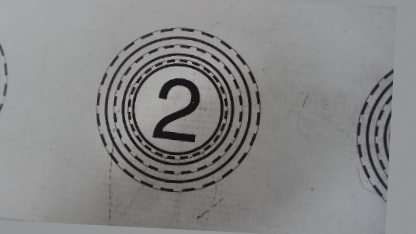2r: (89, 21, 265, 197)
